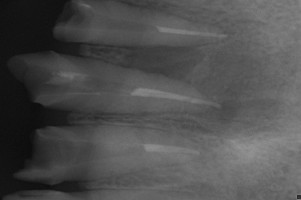Furcation Involvement: (120, 46, 206, 82), (215, 97, 241, 123)
